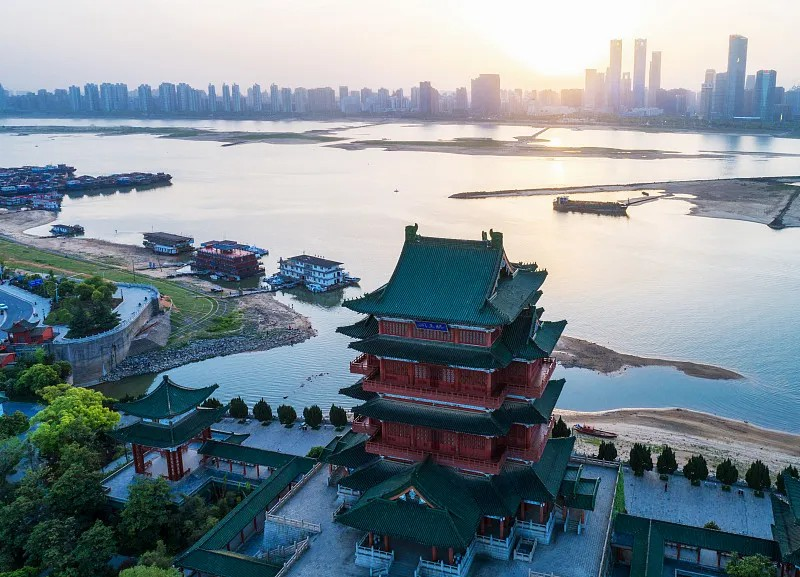Teng: (319, 223, 603, 566)
